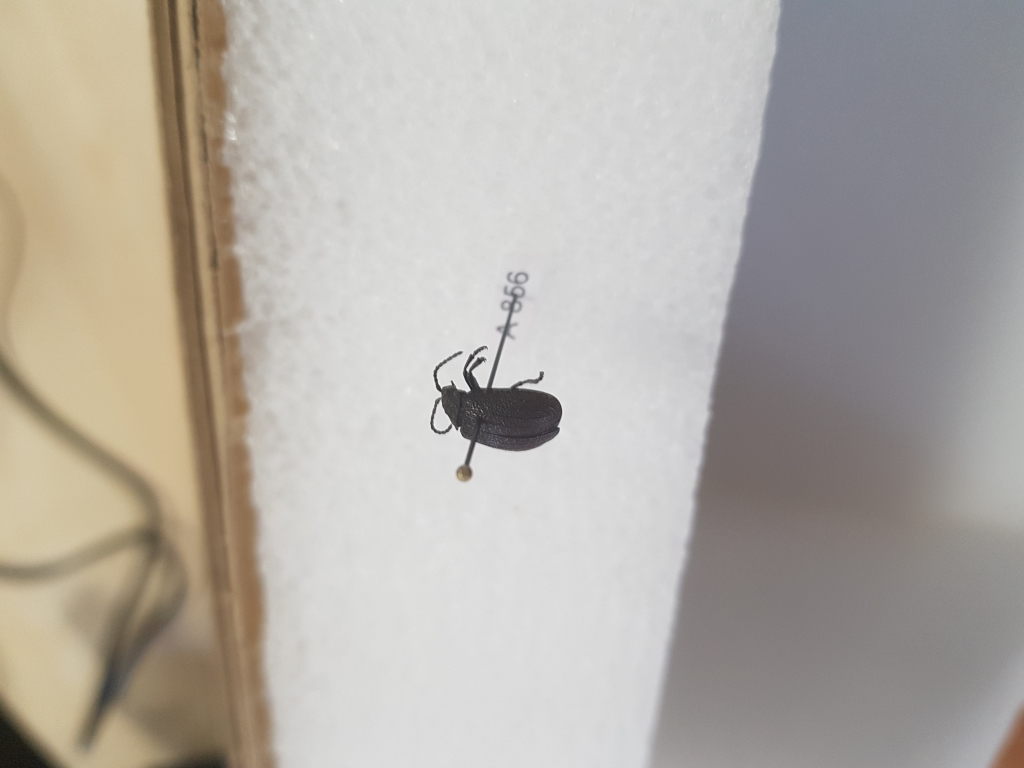Galeruca_tanaceti: (427, 340, 567, 458)
